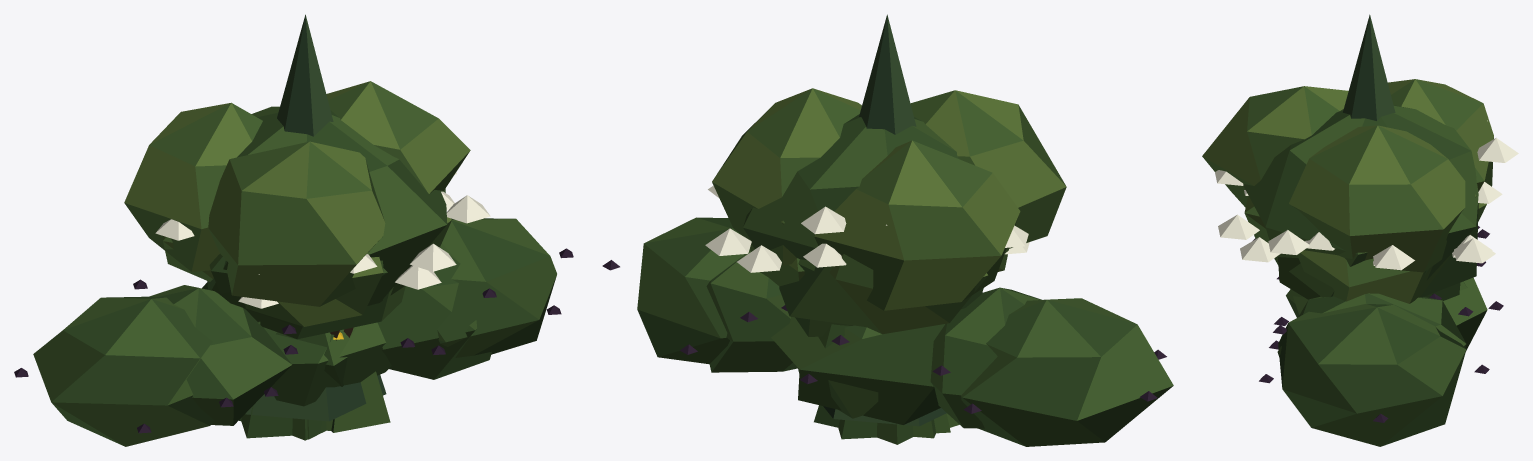
The model's file is natur_buesche.glb.
3 renders of one model, left to right at view 1: azimuth 30°, elevation 25°; view 2: azimuth 150°, elevation 25°; view 3: azimuth 270°, elevation 25°, orthographic. The views are drawn at different scales.
Visible parts, largest first — view 1: Hasel1, Brombeere1, Brombeere2, Holunder1, Wacholder1, Holunder2, Hasel2, Ginster1; view 2: Brombeere1, Hasel1, Brombeere2, Holunder1, Hasel2, Wacholder1, Holunder2, Ginster1, Ginster2; view 3: Hasel1, Brombeere1, Holunder1, Hasel2, Brombeere2, Wacholder1, Holunder2.
Part boxes in pixels (x1,y1,x2,y2): Hasel1: [124, 81, 470, 340]; Brombeere1: [14, 218, 573, 446]; Brombeere2: [133, 243, 496, 425]; Holunder1: [155, 106, 490, 325]; Wacholder1: [245, 14, 386, 421]; Holunder2: [209, 191, 454, 339]; Hasel2: [163, 217, 451, 337]; Ginster1: [241, 332, 390, 440]; Brombeere1: [602, 217, 1173, 446]; Hasel1: [712, 88, 1066, 310]; Brombeere2: [706, 250, 1041, 428]; Holunder1: [705, 114, 1028, 326]; Hasel2: [750, 244, 1008, 334]; Wacholder1: [823, 14, 946, 426]; Holunder2: [737, 242, 1029, 336]; Ginster1: [814, 405, 959, 444]; Ginster2: [838, 413, 950, 439]; Hasel1: [1202, 79, 1493, 272]; Brombeere1: [1259, 229, 1489, 446]; Holunder1: [1215, 105, 1518, 297]; Hasel2: [1244, 196, 1486, 303]; Brombeere2: [1253, 226, 1503, 356]; Wacholder1: [1343, 14, 1395, 120]; Holunder2: [1240, 182, 1502, 300].
Bounding box in the file's own units: 4.12 × 2.82 × 2.22.
